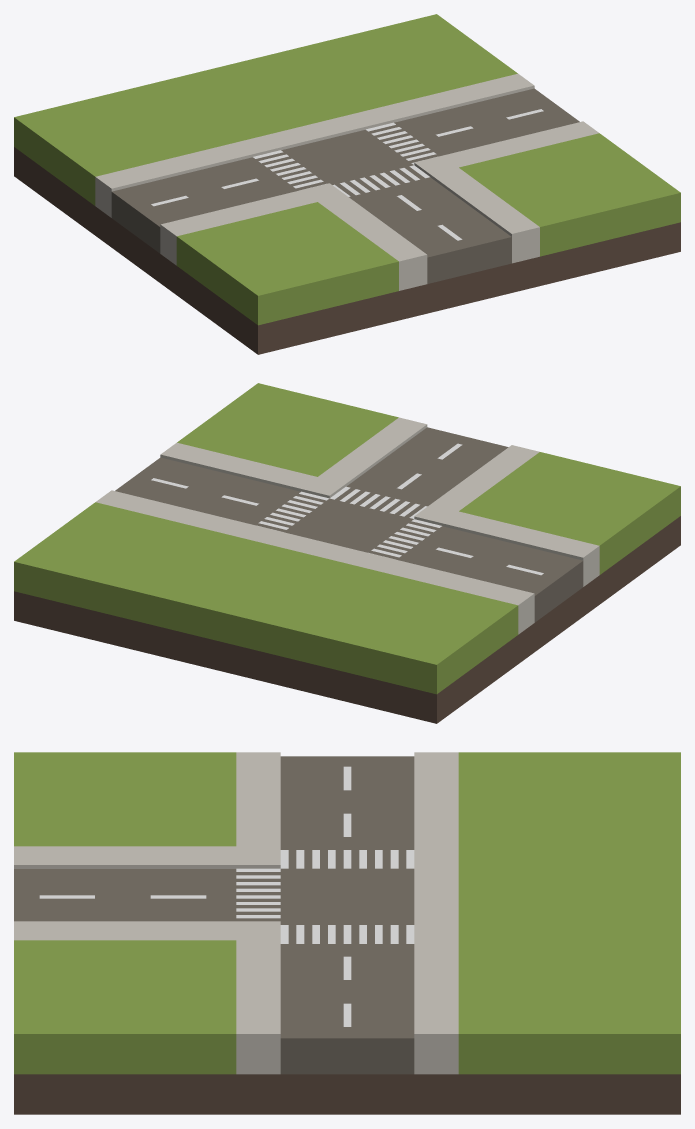
Rendered from road-tile-crossing-T.fbx.
3 views of the same model, one above another, from view 1: azimuth 30°, elevation 25°; view 2: azimuth 150°, elevation 25°; view 3: azimuth 270°, elevation 25° (orthographic). The views are drawn at different scales.
Visible parts, largest first — view 1: road-tile-crossing-T; view 2: road-tile-crossing-T; view 3: road-tile-crossing-T.
Part boxes in pixels (<box>): road-tile-crossing-T: <box>14,14,680,354</box>; road-tile-crossing-T: <box>14,383,680,723</box>; road-tile-crossing-T: <box>14,752,680,1114</box>.
Size of the model in its own units: 3000 by 400 by 3000.
